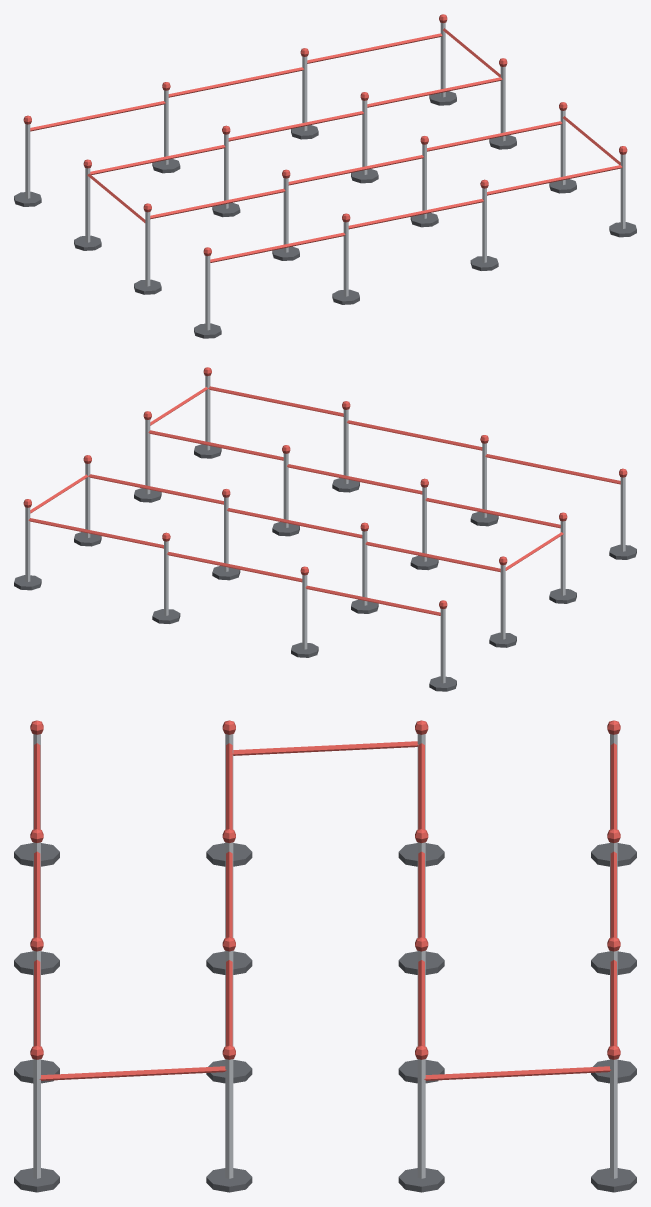
File: ski-resort-and-snow-park-lift-queue-maze-489affb8__25961.glb
3 renders of one model, top to bottom at view 1: azimuth 30°, elevation 25°; view 2: azimuth 150°, elevation 25°; view 3: azimuth 270°, elevation 25°, orthographic. The views are drawn at different scales.
Visible parts, largest first — view 1: lift-queue-maze; view 2: lift-queue-maze; view 3: lift-queue-maze.
Boxes of the visible parts, x1,y1,x2,y2 form: lift-queue-maze: (14,14,636,338); lift-queue-maze: (14,367,636,691); lift-queue-maze: (14,720,636,1192).
Size of the model in its own units: 6.36 by 1.18 by 4.86.
